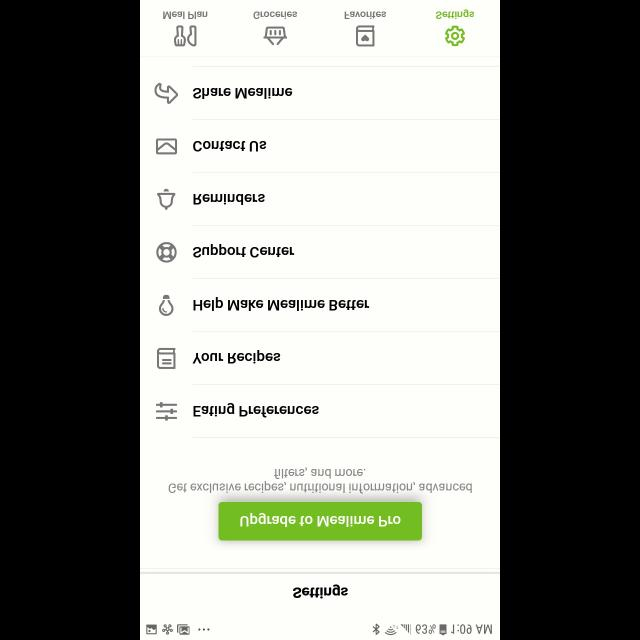icon: (155, 83, 179, 105), (156, 402, 178, 421), (445, 26, 465, 46), (356, 25, 374, 47), (158, 189, 176, 211), (158, 348, 176, 368), (156, 138, 178, 154)
image: (175, 25, 198, 47), (263, 27, 287, 46), (156, 242, 178, 262), (160, 295, 174, 317)
text: (168, 466, 472, 494), (194, 297, 370, 311), (193, 402, 319, 418), (193, 244, 295, 258), (193, 350, 281, 364), (193, 88, 293, 100), (193, 140, 267, 152), (194, 194, 266, 206), (292, 584, 348, 598), (436, 9, 474, 19), (253, 11, 297, 19), (164, 11, 208, 19), (344, 11, 386, 19)
textbutton: (218, 502, 422, 540)
uppertaskbar: (140, 618, 500, 640)
